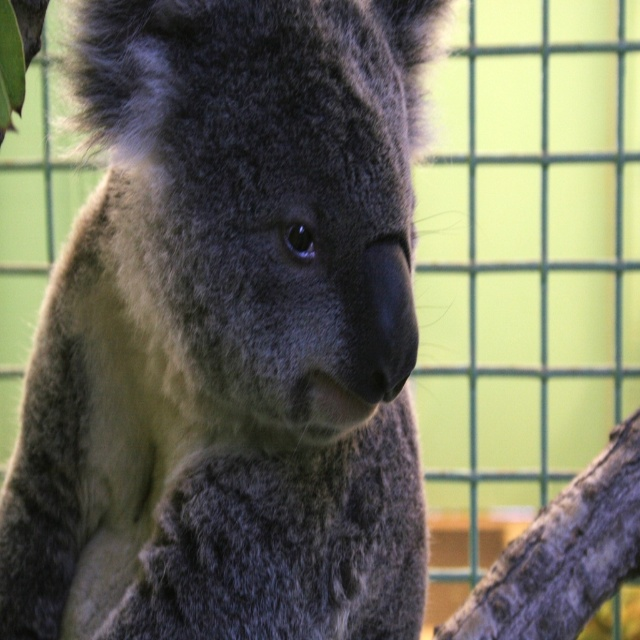Koala: (0, 0, 457, 639)
